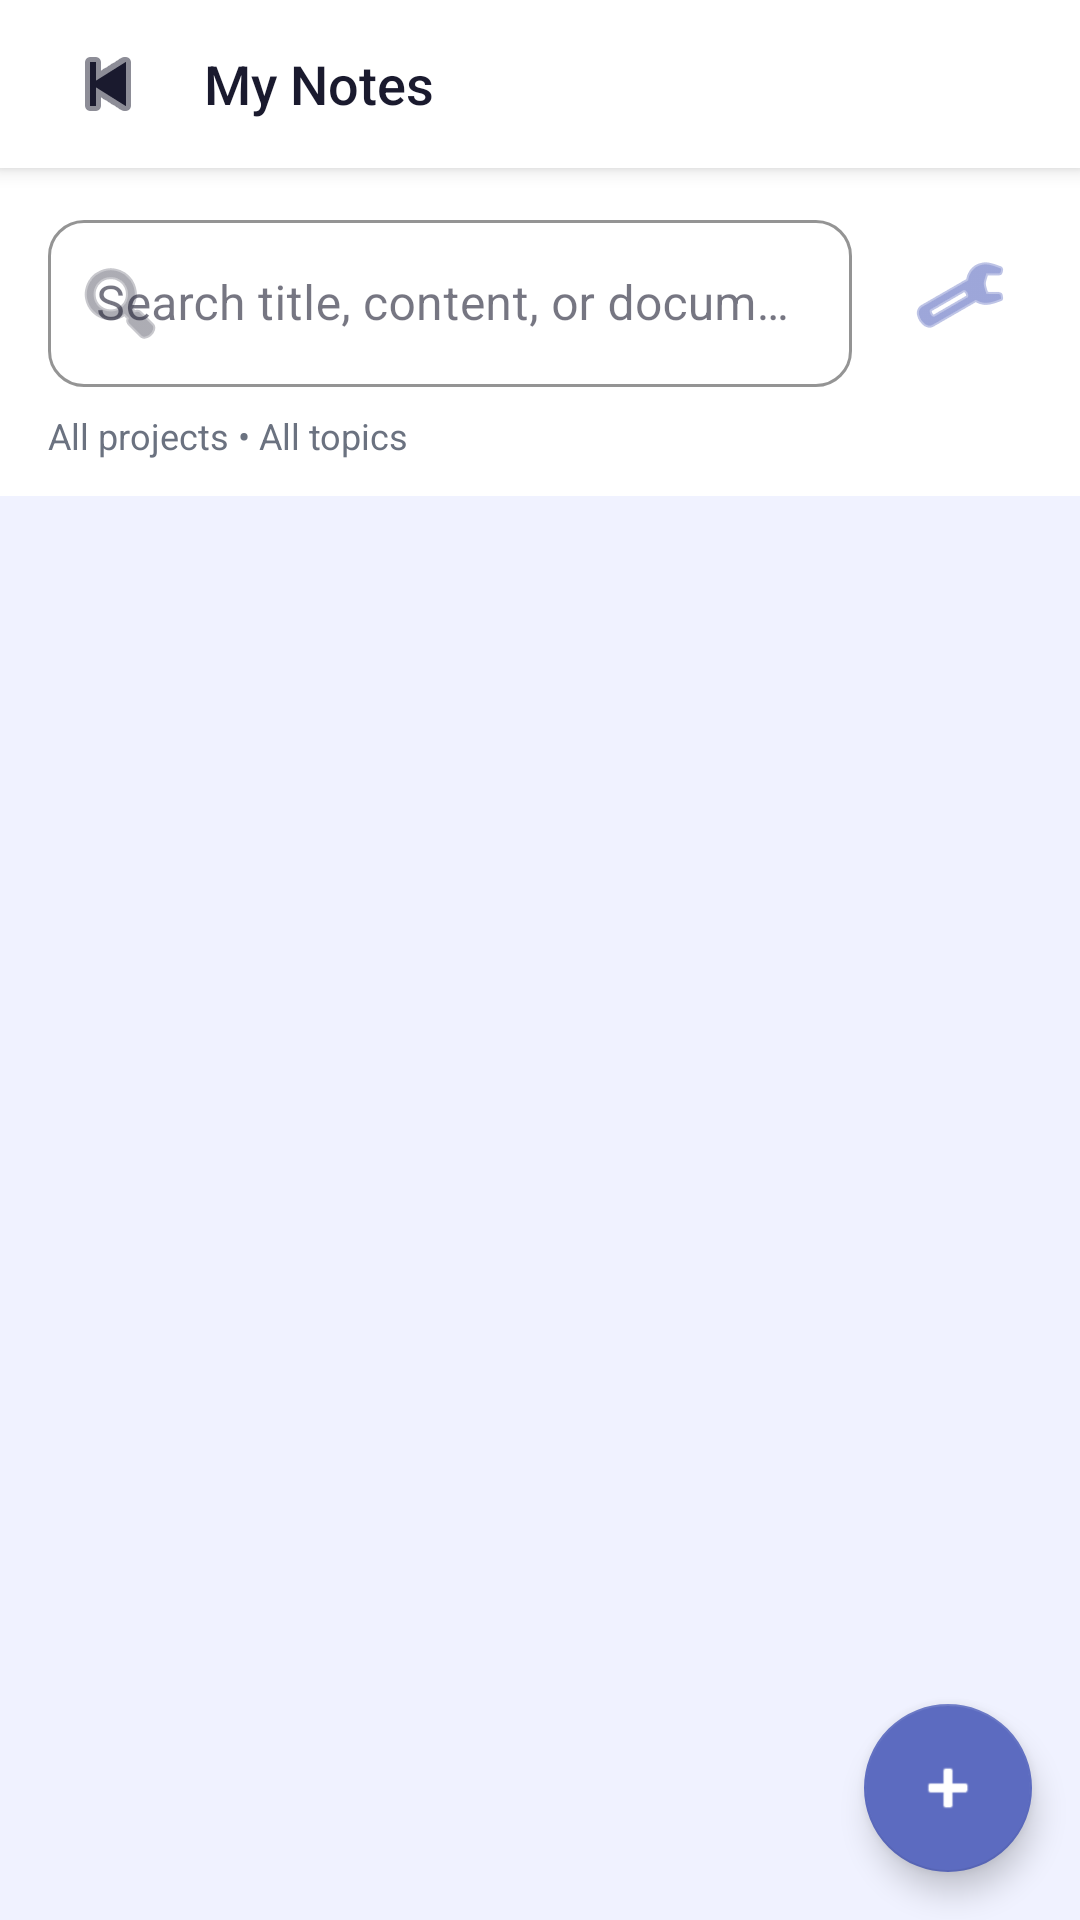

Icon click points for this 1080 x 1920 phone screenshot, format (x=x, y=y):
Add Note: (x=948, y=1788)
Back: (x=108, y=84)
